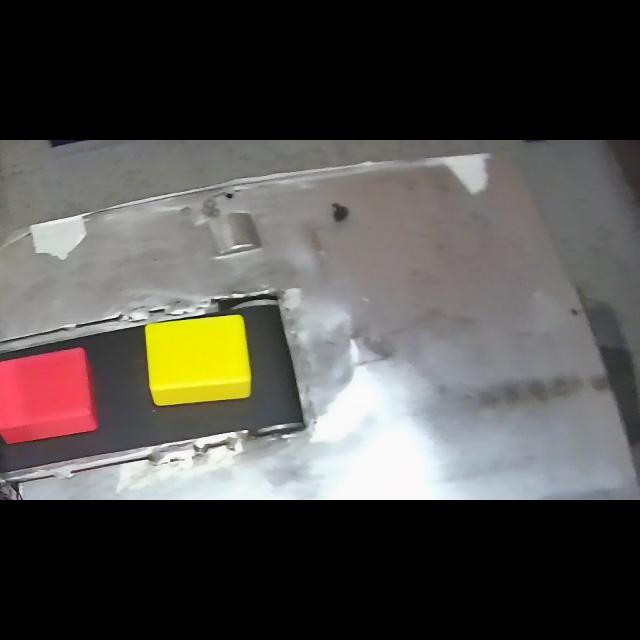redBox: (1, 341, 108, 451)
yellowBox: (139, 308, 261, 414)
